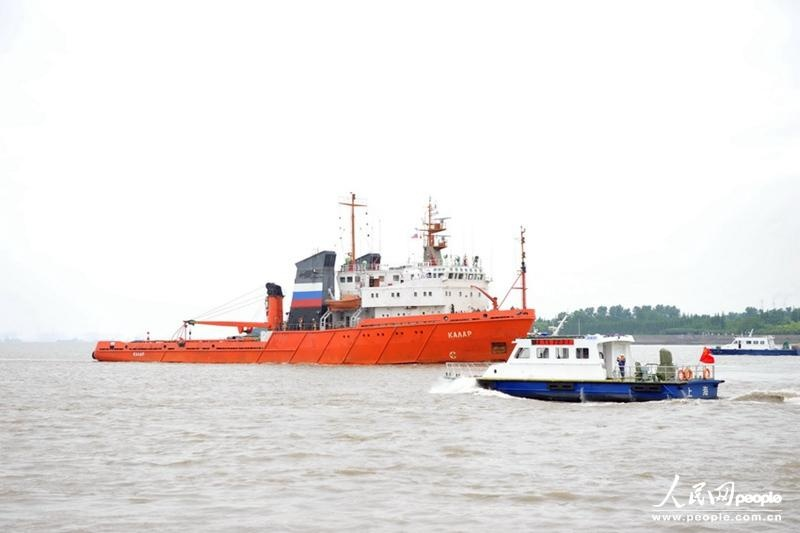otherboat: (84, 214, 547, 368), (470, 320, 726, 409), (704, 326, 800, 360)
